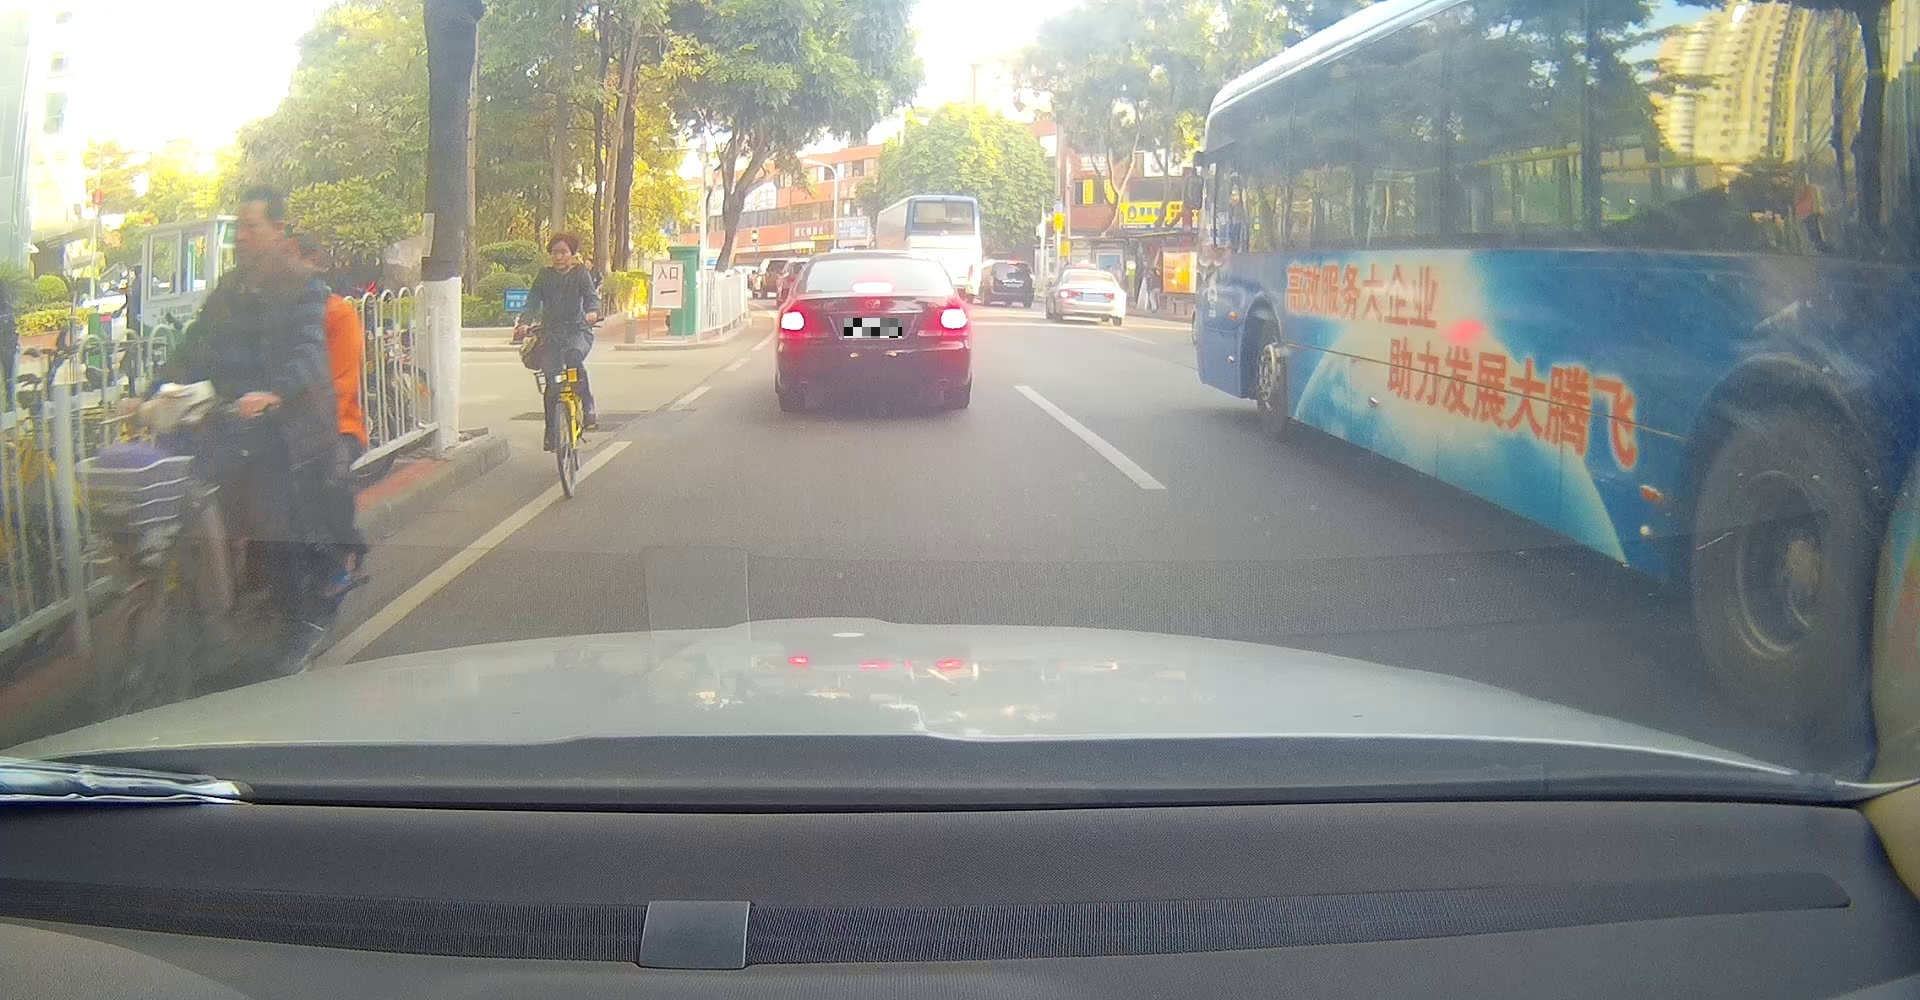L_light: (780, 310, 805, 332), (1059, 289, 1079, 298)
R_light: (940, 308, 968, 330), (1105, 292, 1124, 299)
T_light: (851, 280, 893, 293), (1084, 272, 1097, 275)
day-brake: (775, 250, 970, 412)
day-left: (1058, 269, 1126, 326)
plate_1: (844, 319, 902, 338)
